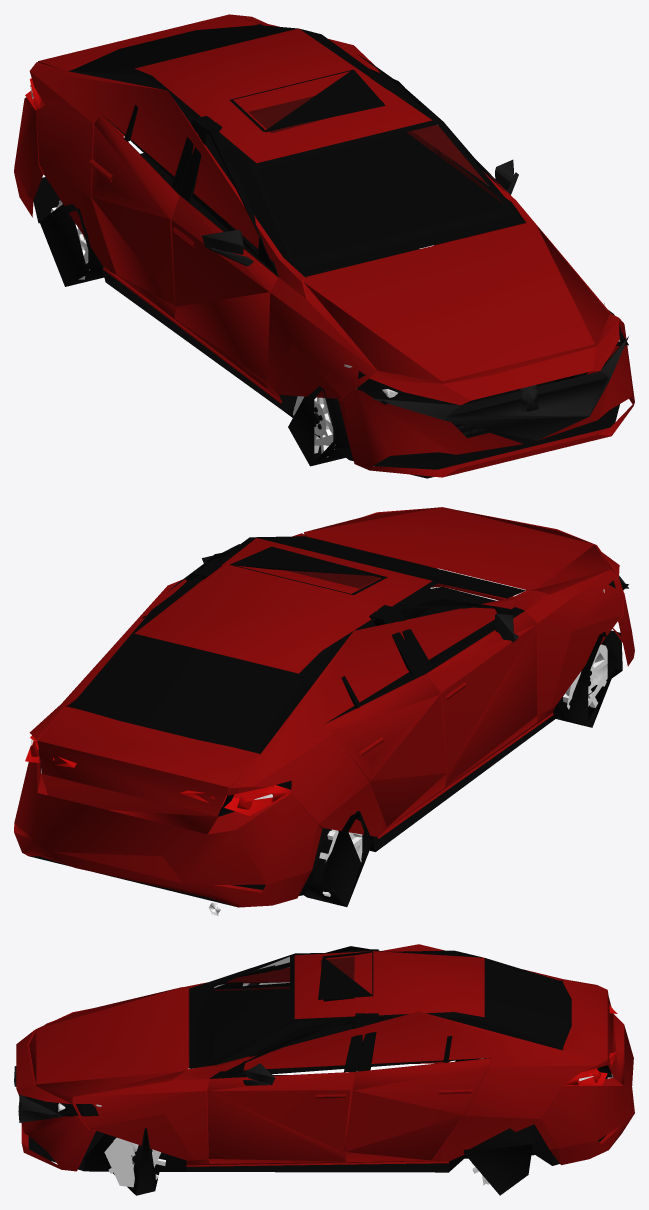
The model's file is v_mazda_lo.glb.
3 renders of one model, top to bottom at view 1: azimuth 30°, elevation 25°; view 2: azimuth 150°, elevation 25°; view 3: azimuth 270°, elevation 25°, orthographic. The views are drawn at different scales.
Parts seen in each view (by area): view 1: Mazda_3.Body_Clearcoat_0, Mazda_3.Body_Black_Diffuse_0, Mazda_3.Body_Black_Specularless_0, Mazda_3.Body_Windows_0, Mazda_3.Body_Metallic_Black_0, Mazda_3.Whl.000_Tires_0, Mazda_3.Body_Alloy_0; view 2: Mazda_3.Body_Clearcoat_0, Mazda_3.Body_Black_Diffuse_0, Mazda_3.Whl.000_Tires_0, Mazda_3.Body_Black_Specularless_0, Mazda_3.Body_Chrome_Red_0, Mazda_3.Body_Alloy_0, Mazda_3.Body_Windows_0, Mazda_3.Body_Metallic_Black_0; view 3: Mazda_3.Body_Clearcoat_0, Mazda_3.Body_Black_Diffuse_0, Mazda_3.Body_Black_Specularless_0, Mazda_3.Body_Windows_0, Mazda_3.Whl.000_Tires_0, Mazda_3.Body_Alloy_0, Mazda_3.Body_Metallic_Black_0, Mazda_3.Body_Chrome_Red_0.
Boxes of the visible parts, box(x1,y1,x2,y2) form: Mazda_3.Body_Clearcoat_0: box(14, 14, 634, 477); Mazda_3.Body_Black_Diffuse_0: box(33, 25, 628, 478); Mazda_3.Body_Black_Specularless_0: box(68, 24, 511, 273); Mazda_3.Body_Windows_0: box(249, 96, 506, 258); Mazda_3.Body_Metallic_Black_0: box(201, 159, 628, 440); Mazda_3.Whl.000_Tires_0: box(39, 204, 349, 466); Mazda_3.Body_Alloy_0: box(50, 200, 604, 456); Mazda_3.Body_Clearcoat_0: box(14, 507, 634, 907); Mazda_3.Body_Black_Diffuse_0: box(29, 536, 628, 907); Mazda_3.Whl.000_Tires_0: box(303, 631, 617, 906); Mazda_3.Body_Black_Specularless_0: box(68, 551, 520, 752); Mazda_3.Body_Chrome_Red_0: box(25, 736, 291, 815); Mazda_3.Body_Alloy_0: box(208, 589, 607, 915); Mazda_3.Body_Windows_0: box(38, 570, 379, 816); Mazda_3.Body_Metallic_Black_0: box(202, 555, 628, 642); Mazda_3.Body_Clearcoat_0: box(16, 944, 634, 1171); Mazda_3.Body_Black_Diffuse_0: box(28, 949, 612, 1172); Mazda_3.Body_Black_Specularless_0: box(210, 946, 562, 1078); Mazda_3.Body_Windows_0: box(214, 957, 612, 1077); Mazda_3.Whl.000_Tires_0: box(113, 1058, 532, 1195); Mazda_3.Body_Alloy_0: box(96, 1058, 489, 1187); Mazda_3.Body_Metallic_Black_0: box(14, 965, 275, 1122); Mazda_3.Body_Chrome_Red_0: box(564, 1004, 617, 1085).
Bounding box in the file's own units: 1.98 × 1.4 × 4.61.
10 materials, 1 textured.
